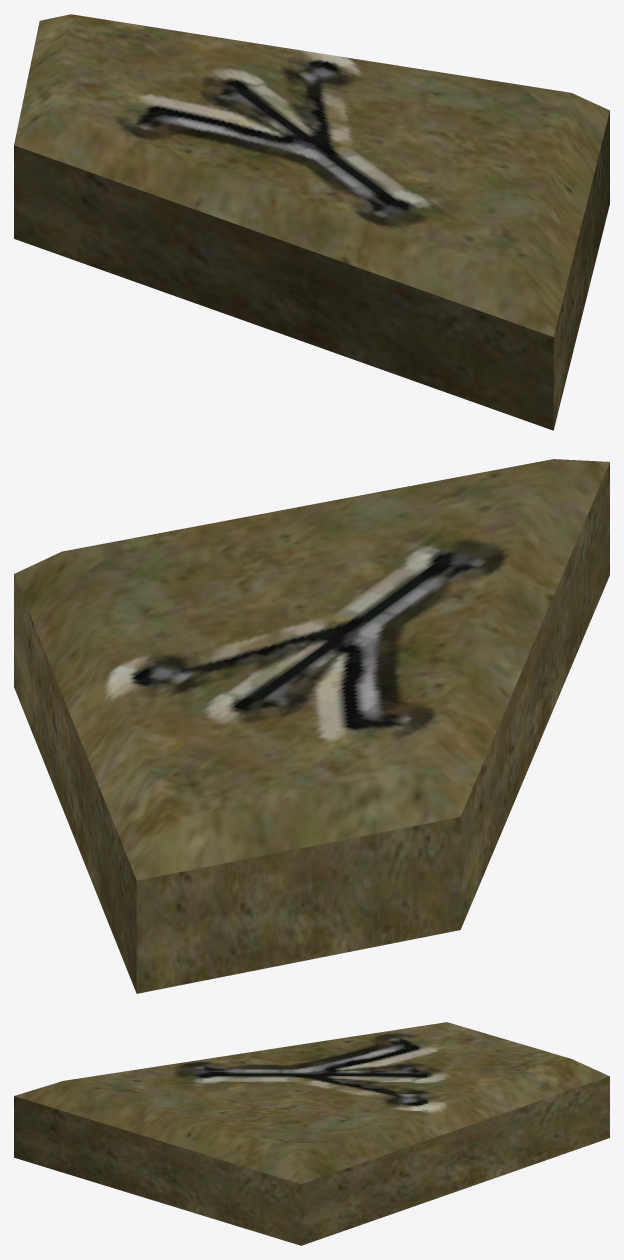
The model's file is INST_SM_RUNEA.fbx.
3 renders of one model, top to bottom at view 1: azimuth 30°, elevation 25°; view 2: azimuth 150°, elevation 25°; view 3: azimuth 270°, elevation 25°, orthographic. The views are drawn at different scales.
Parts seen in each view (by area): view 1: INST_SM_RUNEA; view 2: INST_SM_RUNEA; view 3: INST_SM_RUNEA.
Part boxes in pixels (left/top/right/bottom): INST_SM_RUNEA: left=14, top=14, right=609, bottom=430; INST_SM_RUNEA: left=14, top=459, right=609, bottom=993; INST_SM_RUNEA: left=14, top=1022, right=609, bottom=1245.
Size of the model in its own units: 5778 by 1386 by 9386.
Materials: 1 (1 with a texture image).
